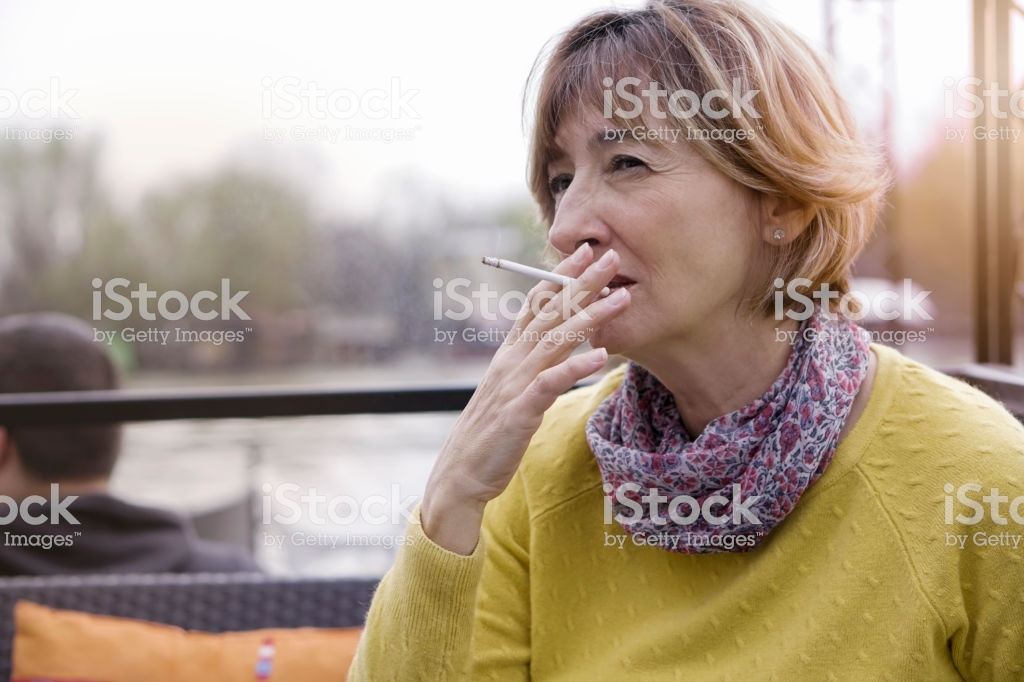sigaretta: (473, 248, 625, 301)
